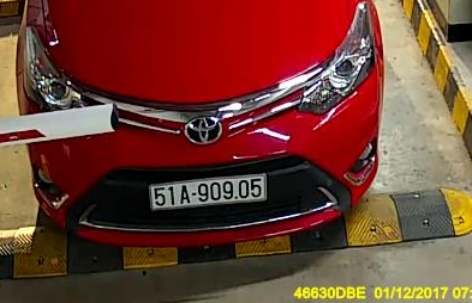plate: (149, 165, 269, 211)
